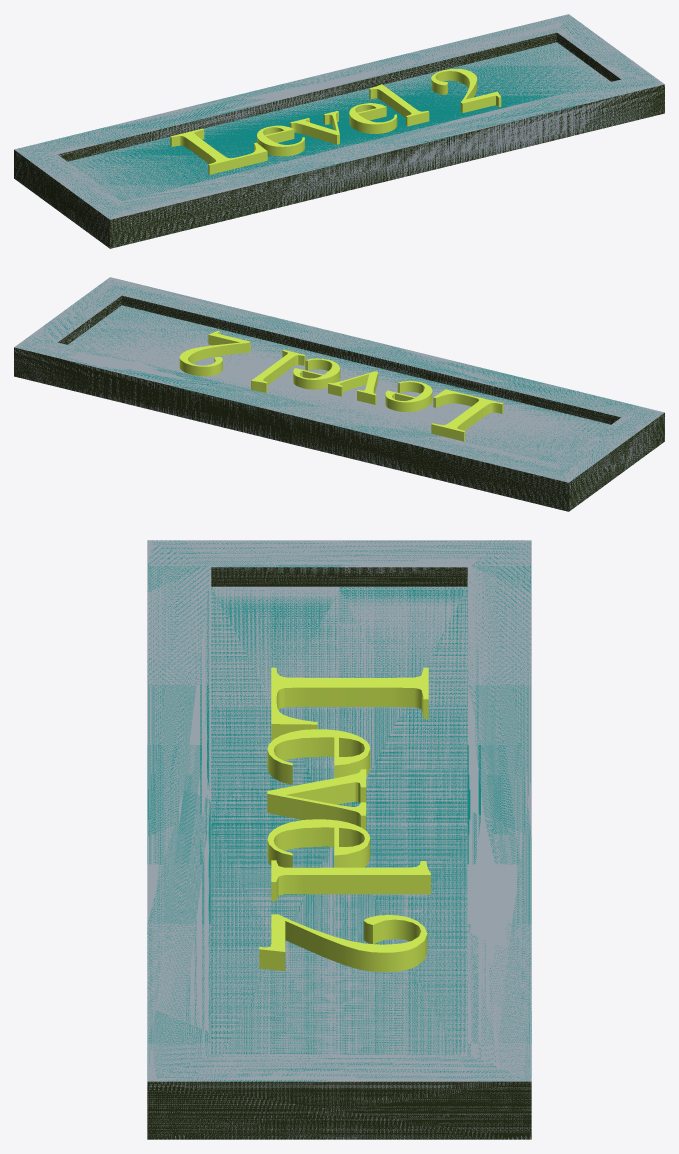
Rendered from Level 2.fbx.
The picture shows the model from 3 angles, top to bottom: view 1: azimuth 30°, elevation 25°; view 2: azimuth 150°, elevation 25°; view 3: azimuth 270°, elevation 25°; orthographic projection. The views are drawn at different scales.
Visible parts, largest first — view 1: Model, Level_2_1; view 2: Model, Level_2_1; view 3: Model, Level_2_1.
Part boxes in pixels (bbox=[...]): Model: bbox=[14, 14, 664, 248]; Level_2_1: bbox=[170, 69, 501, 174]; Model: bbox=[14, 277, 664, 511]; Level_2_1: bbox=[179, 331, 503, 441]; Model: bbox=[147, 540, 531, 1139]; Level_2_1: bbox=[259, 667, 430, 972].
Bounding box in the file's own units: 60 × 3 × 18.
